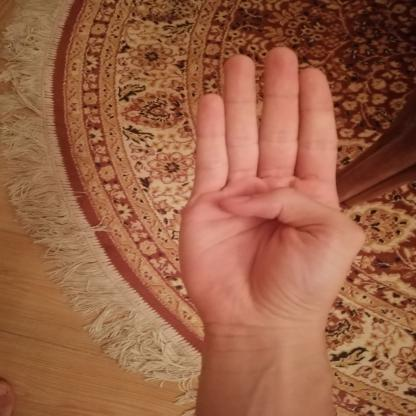KAAF: (163, 33, 377, 347)
